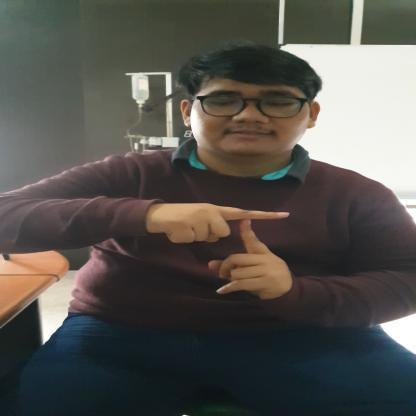T: (152, 200, 291, 298)
